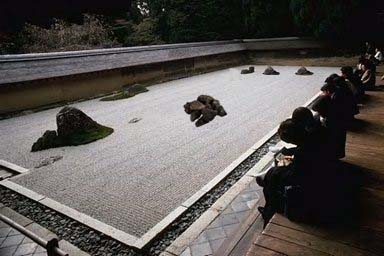copymove: (260, 60, 276, 73)
removal: (222, 69, 248, 90)
spliced: (183, 92, 228, 127)
